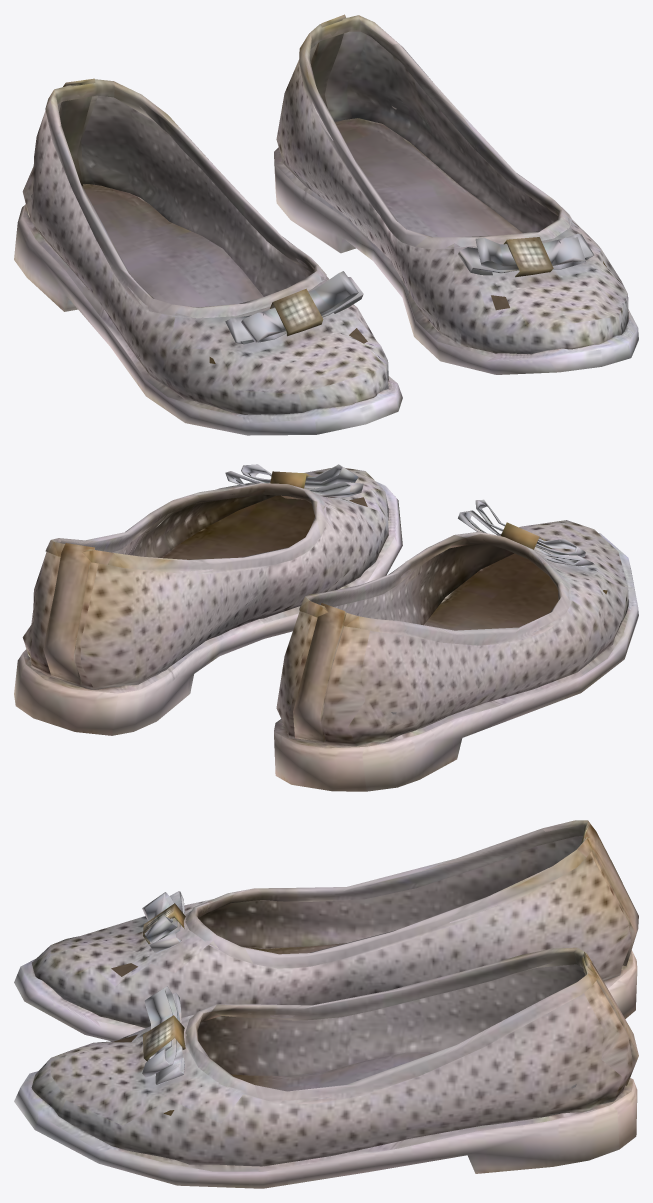
File: shoes_flat.glb
3 renders of one model, top to bottom at view 1: azimuth 30°, elevation 25°; view 2: azimuth 150°, elevation 25°; view 3: azimuth 270°, elevation 25°, orthographic. The views are drawn at different scales.
Visible parts, largest first — view 1: shoes_flat; view 2: shoes_flat; view 3: shoes_flat.
Part boxes in pixels (<box>): shoes_flat: <box>14,14,638,435</box>; shoes_flat: <box>14,464,638,791</box>; shoes_flat: <box>14,820,638,1188</box>.
Bounding box in the file's own units: 0.211 × 0.082 × 0.2506.
Materials: 1 (1 with a texture image).
